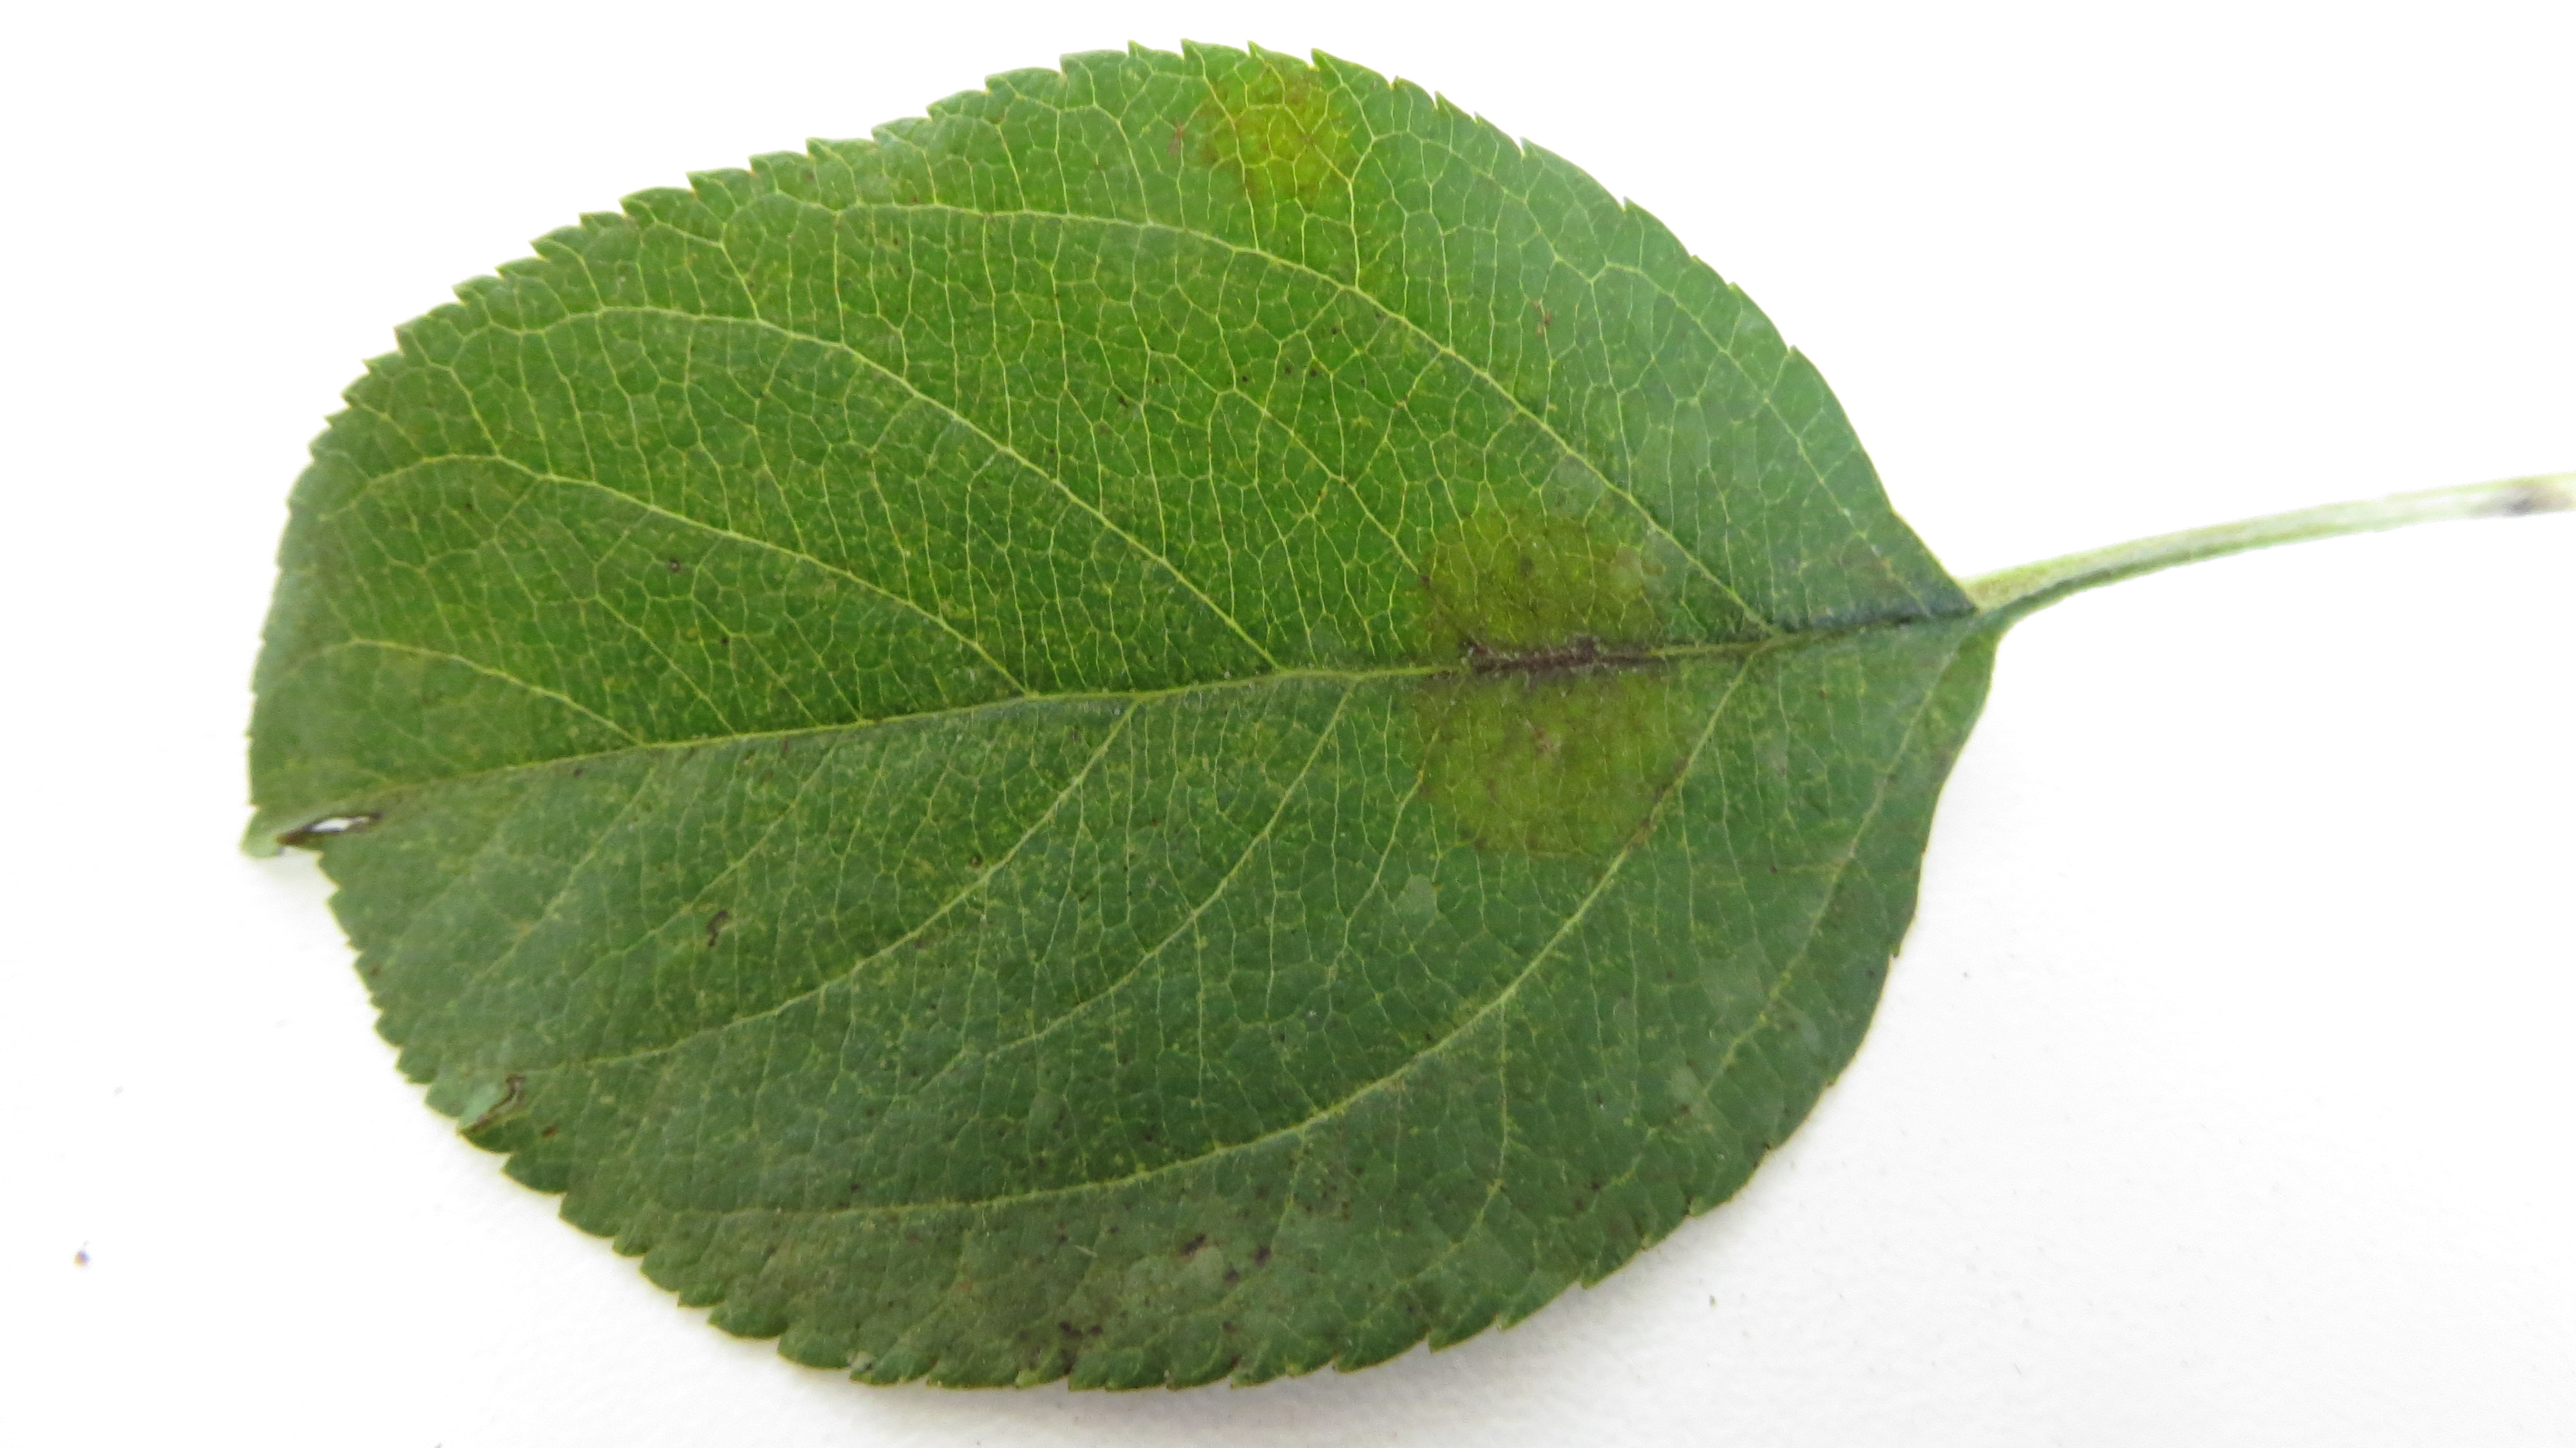sarna: (1401, 496, 1672, 855), (1177, 41, 1339, 205)
